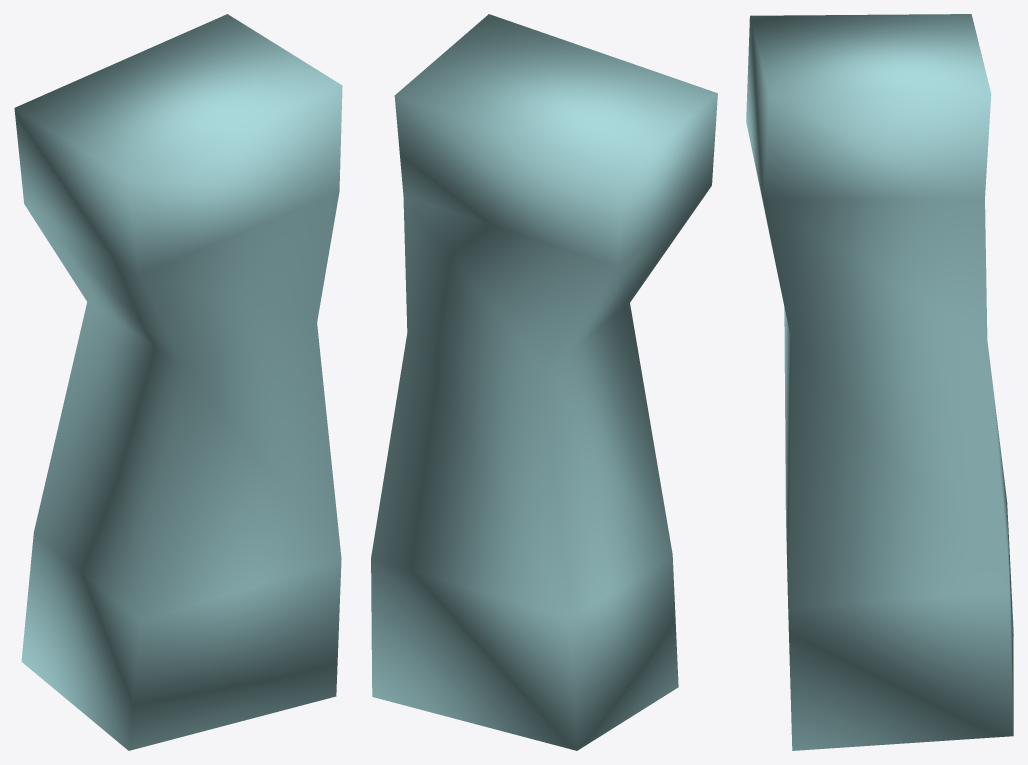
The model's file is Skelly_f_pinky.02.R.fbx.
The picture shows the model from 3 angles, left to right: view 1: azimuth 30°, elevation 25°; view 2: azimuth 150°, elevation 25°; view 3: azimuth 270°, elevation 25°; orthographic projection. The views are drawn at different scales.
Visible parts, largest first — view 1: Skelly_f_pinky.02.R; view 2: Skelly_f_pinky.02.R; view 3: Skelly_f_pinky.02.R.
Part boxes in pixels (box(x1,y1,x2,y2)): Skelly_f_pinky.02.R: box(14, 14, 342, 750); Skelly_f_pinky.02.R: box(371, 14, 717, 750); Skelly_f_pinky.02.R: box(746, 14, 1013, 750).
Bounding box in the file's own units: 1.13 × 2.82 × 1.04.
